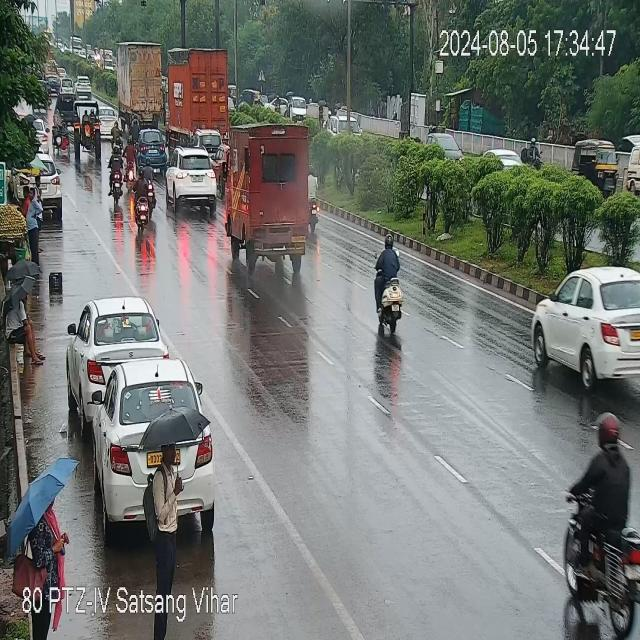2-wheelers: (567, 386, 640, 640), (366, 235, 408, 334), (131, 164, 157, 229), (106, 148, 128, 200), (309, 168, 323, 234), (527, 139, 543, 169), (110, 121, 122, 150)
auto: (227, 124, 321, 265), (573, 140, 625, 190), (50, 111, 70, 160), (55, 94, 79, 126)
car: (81, 361, 216, 541), (531, 268, 638, 385), (70, 299, 166, 395), (167, 149, 221, 208), (44, 155, 63, 221), (140, 128, 164, 169), (434, 132, 462, 163), (89, 106, 121, 133), (73, 76, 99, 100), (207, 127, 222, 157), (38, 118, 50, 154)
pedestrian: (146, 434, 190, 580), (22, 491, 69, 591), (7, 282, 44, 362), (23, 186, 42, 259)
truck: (136, 45, 244, 146), (116, 41, 164, 118), (75, 103, 98, 159)
